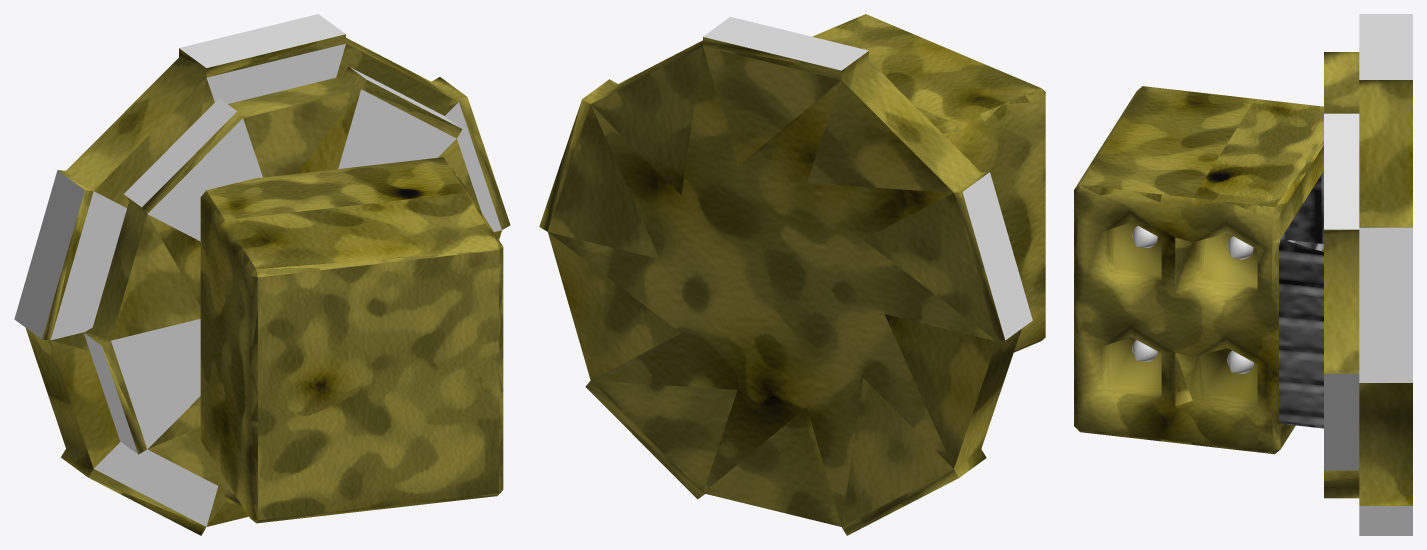
Rendered from Launcher_dead.fbx.
3 renders of one model, left to right at view 1: azimuth 30°, elevation 25°; view 2: azimuth 150°, elevation 25°; view 3: azimuth 270°, elevation 25°, orthographic. The views are drawn at different scales.
Visible parts, largest first — view 1: Body0, Body1, Color1; view 2: Body1, Body0, Color1; view 3: Body0, Body1, Color1, Emitter1, Emitter2, Emitter4.
Boxes of the visible parts, left/top/right/bottom form: Body0: left=200, top=157, right=503, bottom=523; Body1: left=25, top=34, right=510, bottom=535; Color1: left=14, top=14, right=501, bottom=526; Body1: left=539, top=37, right=1021, bottom=535; Body0: left=812, top=14, right=1045, bottom=352; Color1: left=703, top=17, right=1032, bottom=340; Body0: left=1074, top=86, right=1323, bottom=454; Body1: left=1324, top=52, right=1412, bottom=505; Color1: left=1324, top=14, right=1412, bottom=535; Emitter1: left=1227, top=236, right=1253, bottom=259; Emitter2: left=1227, top=350, right=1253, bottom=373; Emitter4: left=1132, top=226, right=1157, bottom=247.
Size of the model in its own units: 34.51 by 32.83 by 22.24.
2 materials, 2 textured.
